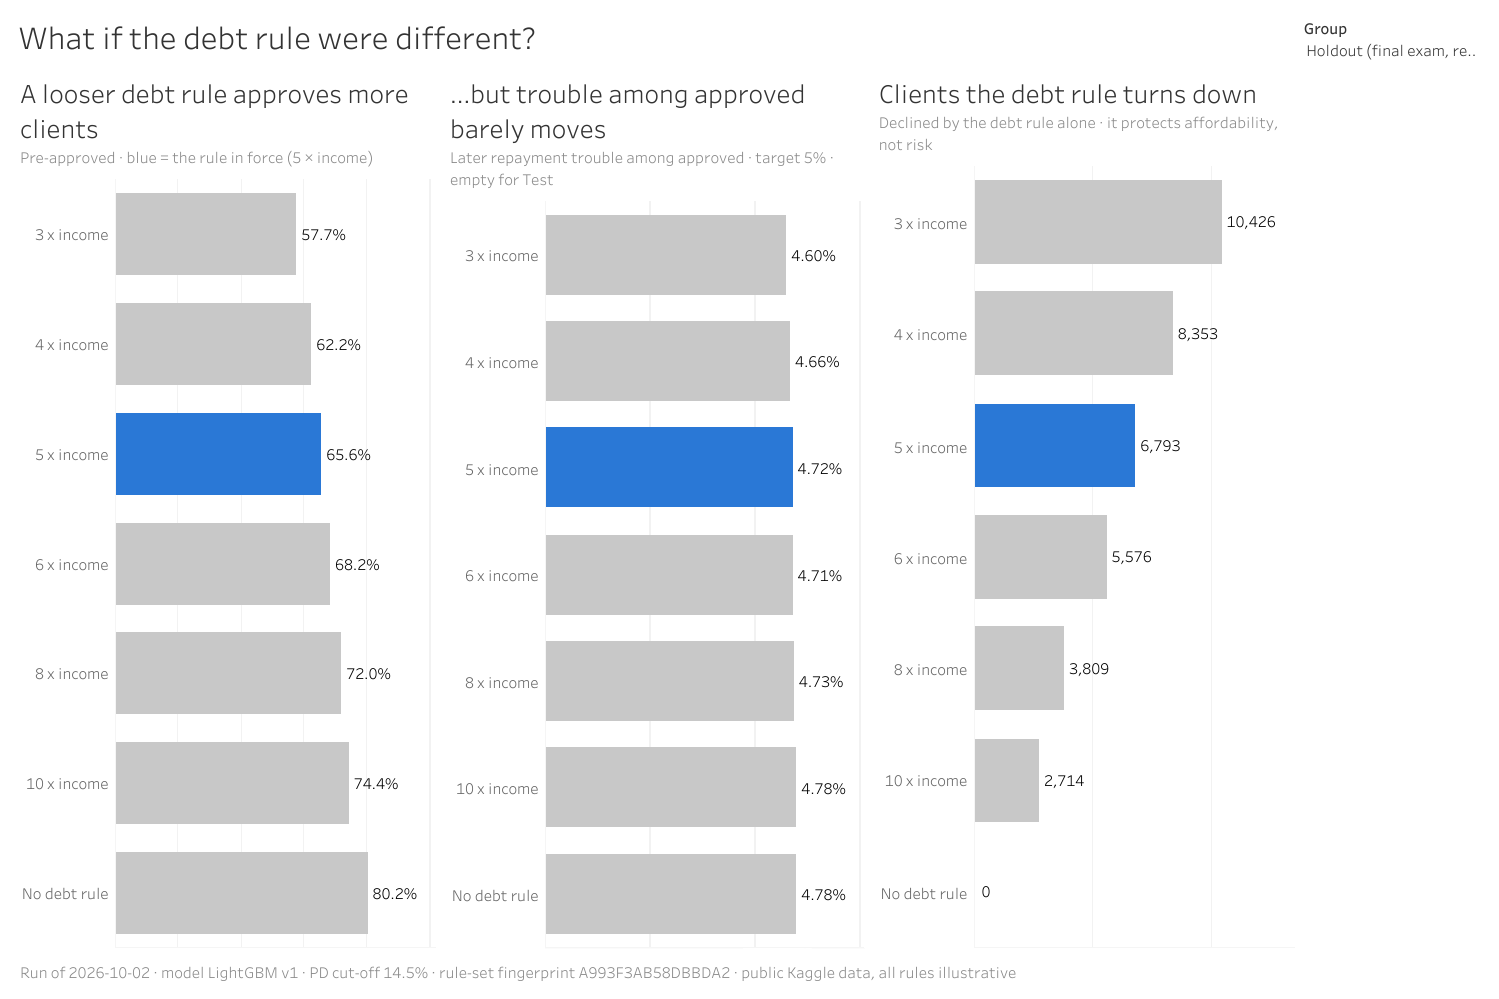

What the dashboard file says about the page in this screenshot:
{"tool":"tableau","page":{"name":"4 - Debt rule what-if","canvas":[1200,800],"ordinal":3},"visuals":[{"type":"title","box":[8,8,1031,50]},{"type":"parameter","param":"[Parameters].[Parameter 0193564081881089]","box":[1039,8,153,56]},{"type":"worksheet","title":"Debt rule approval","mark":"Bar","rows":["debt_rule"],"cols":["approval_rate"],"box":[8,58,343.7,704]},{"type":"worksheet","title":"Debt rule trouble","mark":"Bar","rows":["debt_rule"],"cols":["bad_rate_approved"],"box":[351.7,58,343.7,704]},{"type":"worksheet","title":"Debt rule declines","mark":"Bar","rows":["debt_rule"],"cols":["declined_by_debt_rule"],"box":[695.3,58,343.7,704]},{"type":"worksheet","title":"Run footer","mark":"Text","box":[8,762,1031,30]}]}

Visuals, with their boxes in screenshot pixels (x1, y1, x2, y2), scaled from the page's 1200x800 canvas onto the 1499x999 screenshot:
title: bbox=(10, 10, 1298, 72)
parameter: bbox=(1298, 10, 1489, 80)
"Debt rule approval" worksheet (Bar marks): bbox=(10, 72, 439, 952)
"Debt rule trouble" worksheet (Bar marks): bbox=(439, 72, 869, 952)
"Debt rule declines" worksheet (Bar marks): bbox=(869, 72, 1298, 952)
"Run footer" worksheet (Text marks): bbox=(10, 952, 1298, 989)
